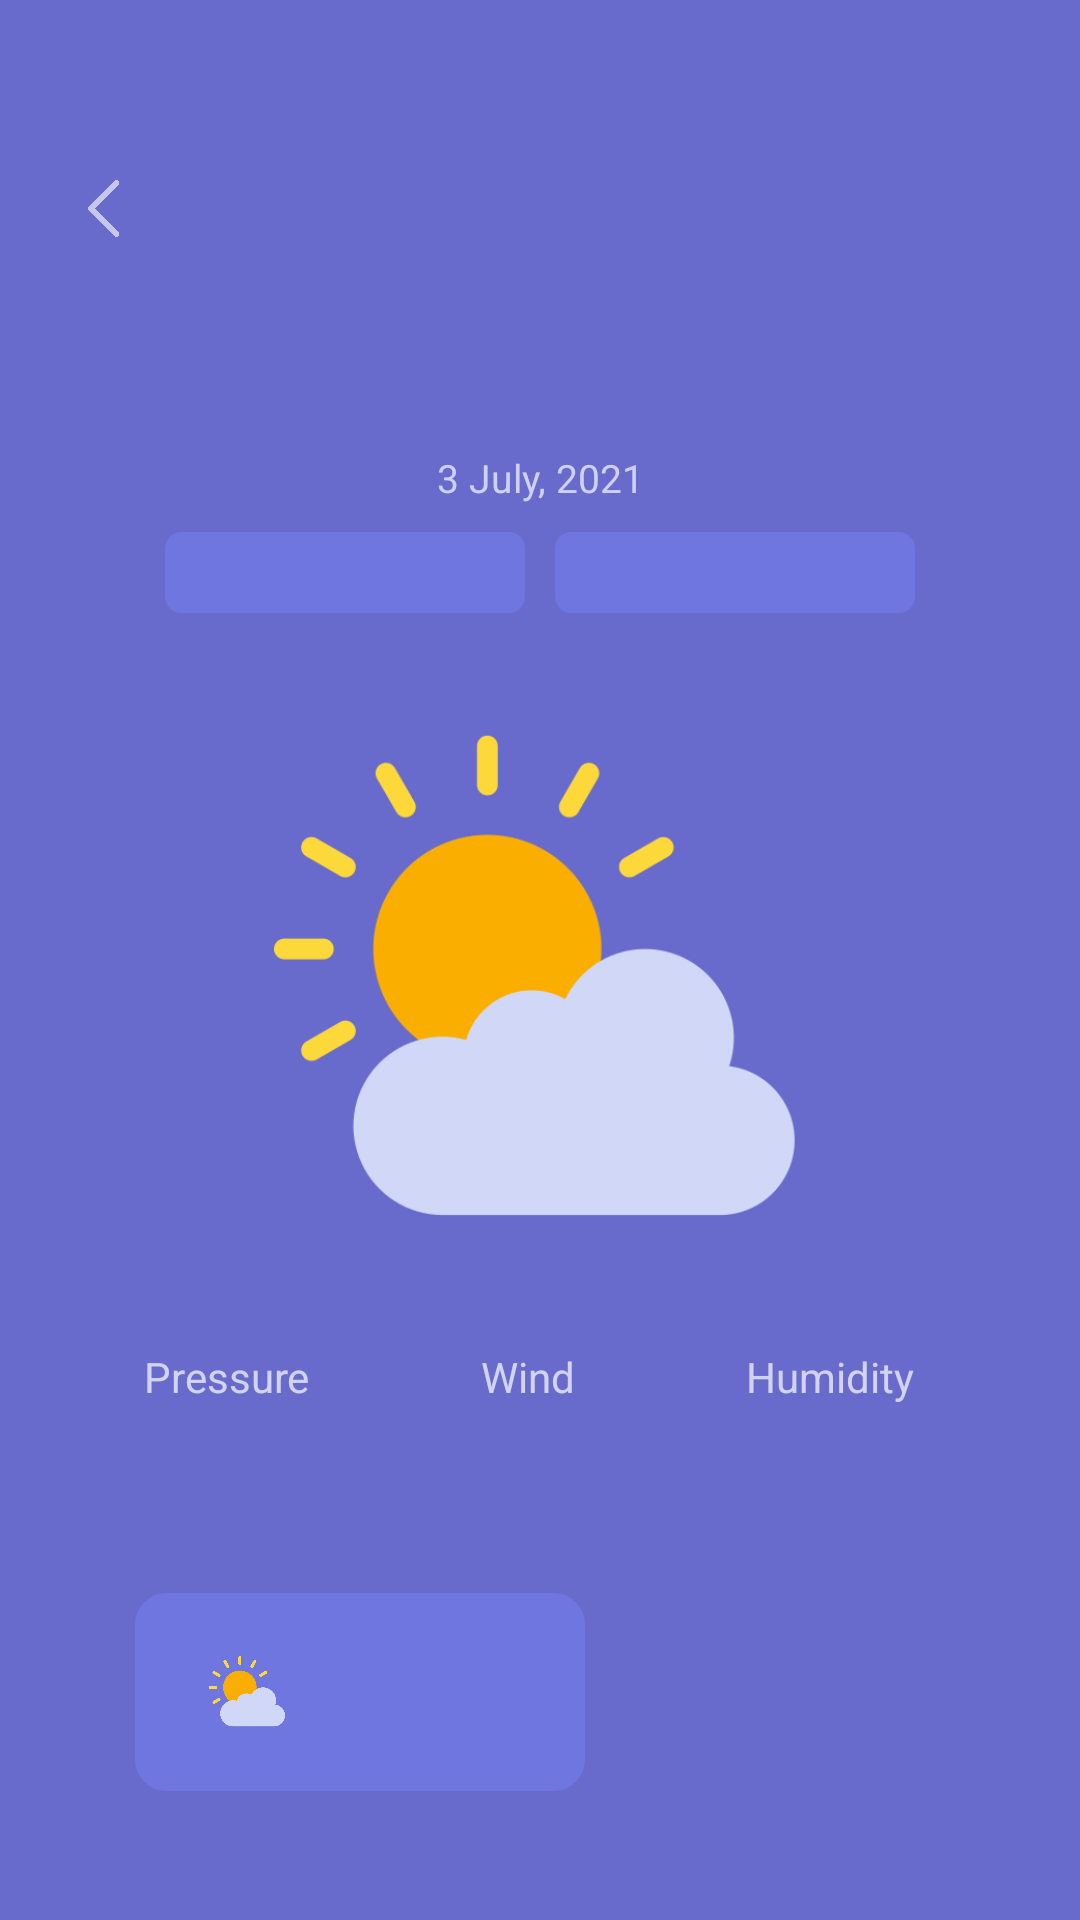

Icon click points for this 1080*1920 phone screenshot, format point (x, y):
back: point (103, 208)
